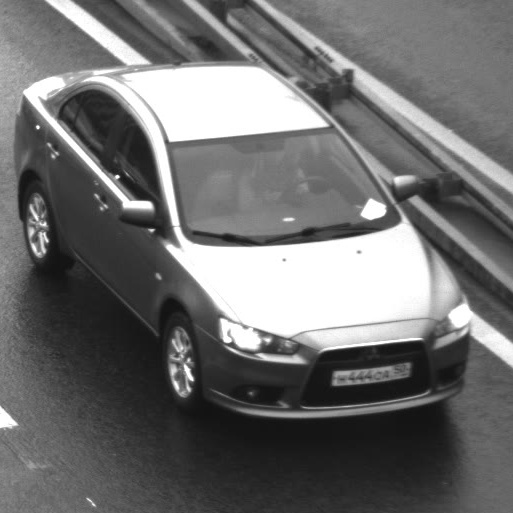plate: (322, 351, 420, 393)
